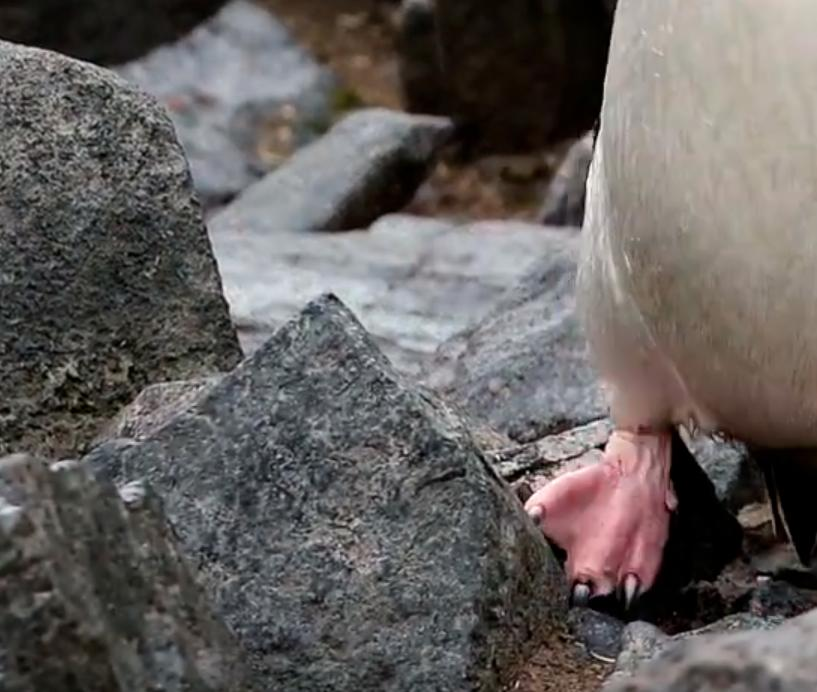Chinstrap Penguin: (290, 0, 817, 629)
